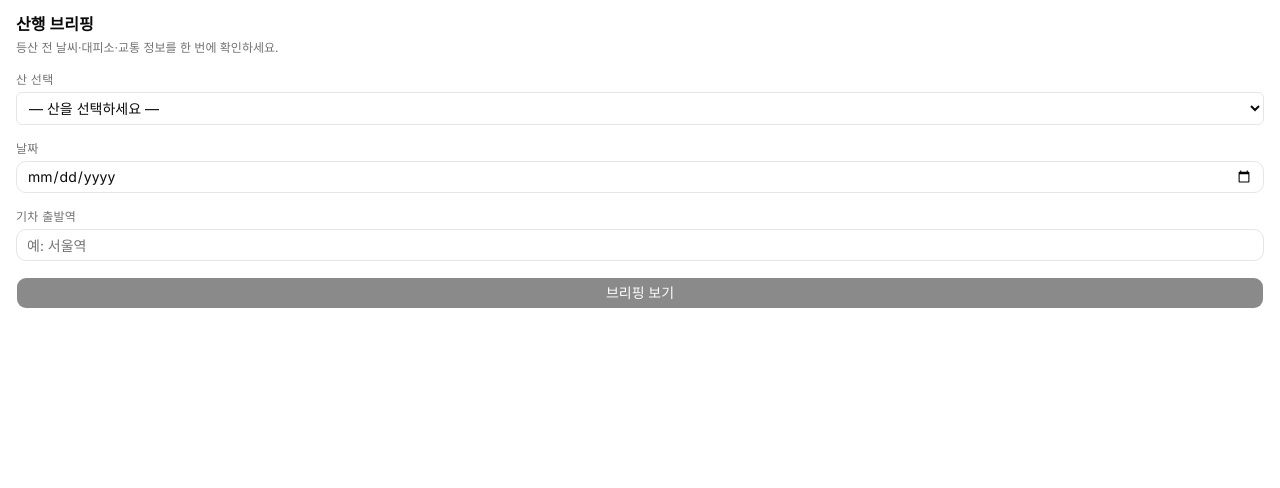
Test: SearchForm › 제출 버튼 활성화 › 산·날짜·기차역 모두 입력 시 버튼이 활성화된다
The image size is (1280, 488).
Expected: the button with test id "submit-button" is disabled, [16,277,1264,309]
Select "지리산" in the dropdown with test id "mountain-select" at (640, 108), box [16,92,1264,125]
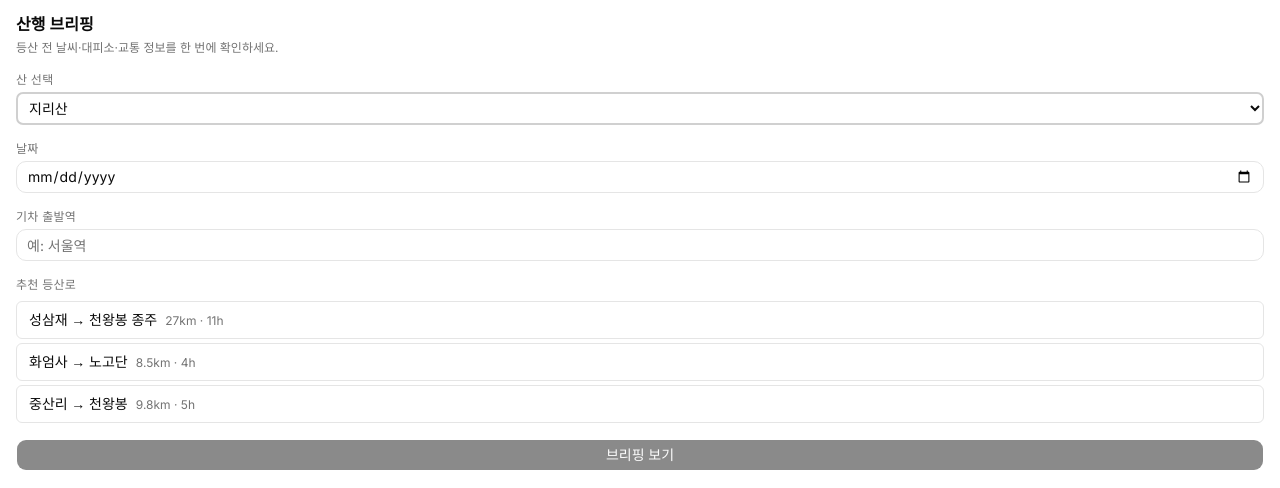
Type "2025-06-07" into the date field with test id "date-input" at (640, 177), box [16,161,1264,193]
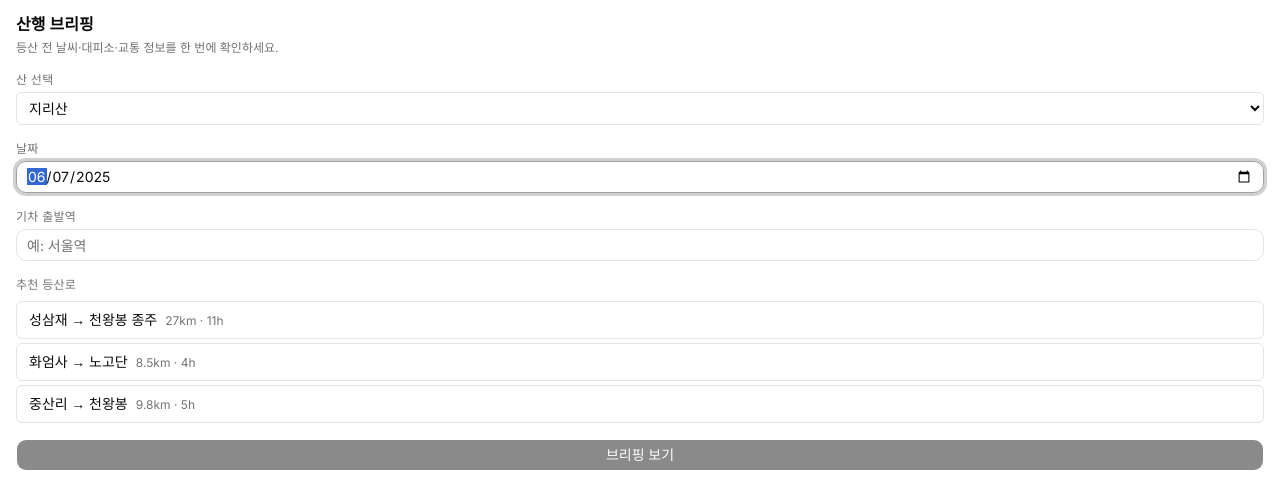
Type "서울역" into the field with test id "departure-input" at (640, 245), box [16,229,1264,261]
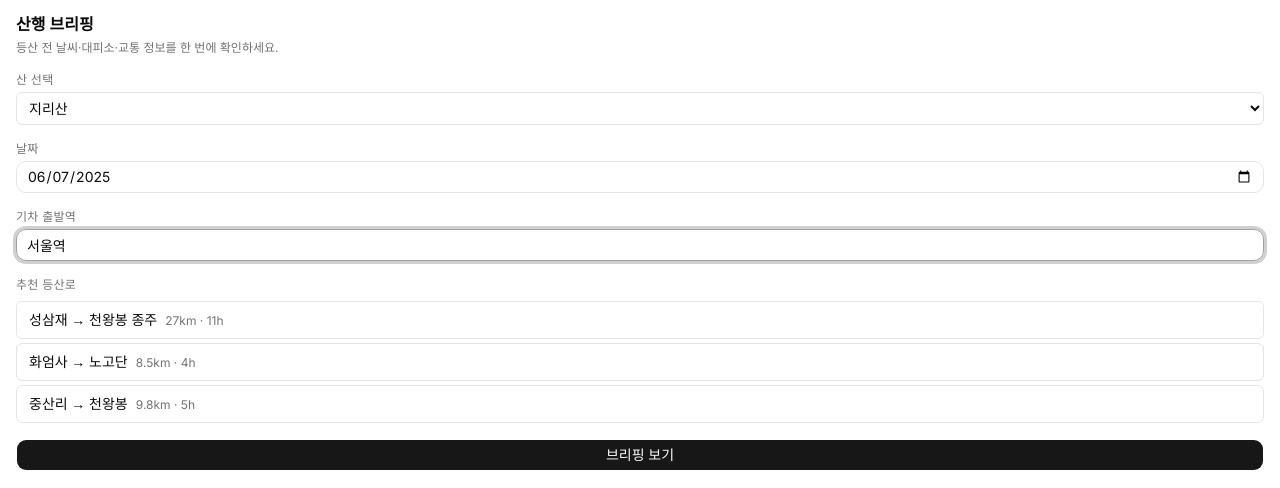
Expected: the button with test id "submit-button" is enabled, [16,439,1264,471]
